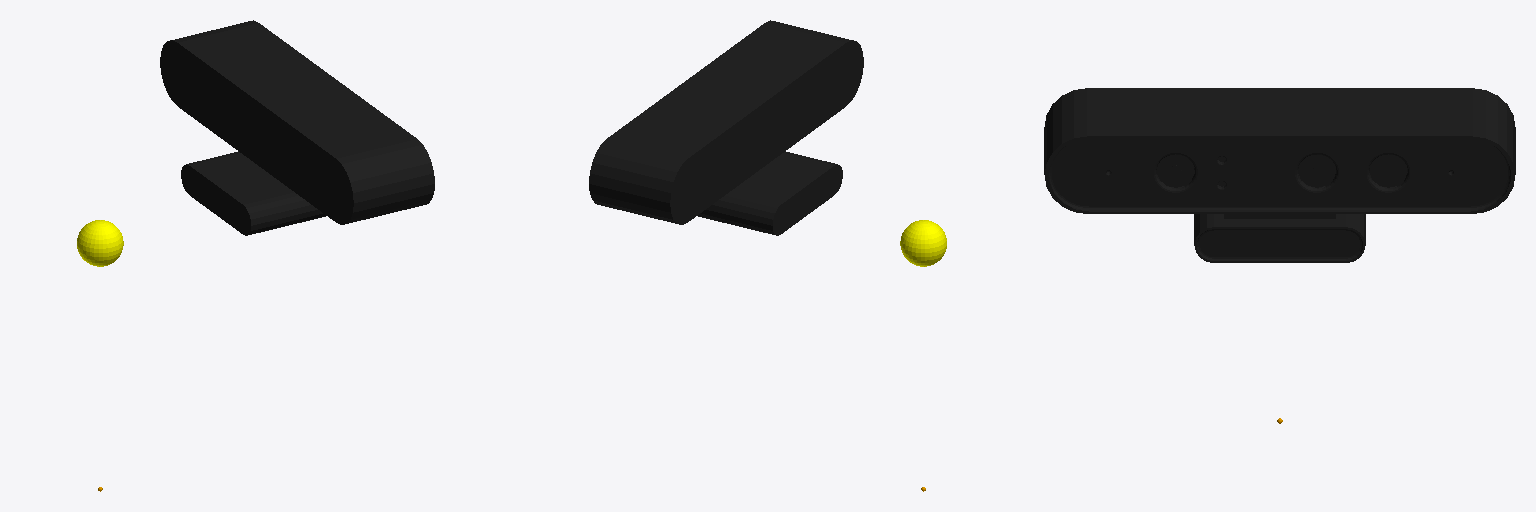
robot.urdf — tarkbot_robot:
<?xml version="1.0" encoding="utf-8"?>

<robot name="tarkbot_robot">

    <!-- 机器人底部中心原点 -->
    <link name="base_footprint">
        <visual>
            <geometry>
                <sphere radius="0.001" />
            </geometry>
        </visual>
    </link>

    <!-- 机器人底盘 -->
    <link name="base_link">
        <visual>
            <geometry>
                <mesh filename="package://turtlebot4_description/meshes/base_r20_fwd.stl" />
            </geometry>
            <origin xyz="0 0 0" rpy="0 0 0" />
            <material name="base_color">
                <!-- <color rgba="0.000 0.500 0.500 1" /> -->
                <!-- <color rgba="0.000 0.000 1.000 1" /> -->
                <!-- <color rgba="1.000 0.500 0.000 1" /> -->
                <color rgba="0.800 0.800 0.800 1" />
            </material>
        </visual>
    </link>    

        <!-- 机器人轮子 -->
    <link name="wheel_fl">
        <visual>
            <geometry>
                <mesh filename="package://turtlebot4_description/meshes/wheel/w100.stl" />
            </geometry>
            <origin xyz="0 0 0" rpy="0 0 0" />
            <material name="wheel_color">
                <color rgba="0.1 0.1 0.1 1" />
            </material>
        </visual>
    </link>  

    <link name="wheel_fr">
        <visual>
            <geometry>
                <mesh filename="package://turtlebot4_description/meshes/wheel/w100.stl" />
            </geometry>
            <origin xyz="0 0 0" rpy="0 0 0" />
            <material name="wheel_color">
                <color rgba="0.1 0.1 0.1 1" />
            </material>
        </visual>
    </link>  

    <link name="wheel_bl">
        <visual>
            <geometry>
                <mesh filename="package://turtlebot4_description/meshes/wheel/w100.stl" />
            </geometry>
            <origin xyz="0 0 0" rpy="0 0 0" />
            <material name="wheel_color">
                <color rgba="0.1 0.1 0.1 1" />
            </material>
        </visual>
    </link>  

    <link name="wheel_br">
        <visual>
            <geometry>
                <mesh filename="package://turtlebot4_description/meshes/wheel/w100.stl" />
            </geometry>
            <origin xyz="0 0 0" rpy="0 0 0" />
            <material name="wheel_color">
                <color rgba="0.1 0.1 0.1 1" />
            </material>
        </visual>
    </link>  

    <!-- 机器人雷达 -->
    <link name="laser_link">
        <visual>
            <geometry>
                <mesh filename="package://turtlebot4_description/meshes/laser.stl" />
            </geometry>
            <origin xyz="0 0 -0.06" rpy="0 0 0" />
            <material name="laser_color">
                <color rgba="0.4 0.4 0.4 1" />
            </material>
        </visual>
    </link> 

    <!-- 机器人摄像头 -->
    <link name="camera_link">
        <visual>
            <geometry>
                <mesh filename="package://turtlebot4_description/meshes/depthcamera.stl" />
            </geometry>
            <origin xyz="0 0 0" rpy="0 0 0" />
            <material name="camera_color">
                <color rgba="0.15 0.15 0.15 1" />
            </material>
        </visual>
    </link>

    <!-- 机器人IMU传感器 -->
    <link name="imu_link">
        <visual>
            <geometry>
                <sphere radius="0.010" />
            </geometry>
            <origin xyz="0 0 0" rpy="0 0 0" />
            <material name="imu_color">
                <color rgba="1 1 0 1" />
            </material>
        </visual>
    </link>

    <!-- 机器人前灯 -->
    <link name="light_link">
        <visual>
            <geometry>
                <mesh filename="package://turtlebot4_description/meshes/light.stl" />
            </geometry>
            <origin xyz="0 0 0" rpy="0 0 0" />
            <material name="light_color">
                <color rgba="0.0 1.0 1.0 1" />
            </material>
        </visual>
    </link>

    <!-- 底盘与原点连接的关节 -->
    <joint name="baselink2footprint" type="fixed">
        <origin xyz="0 0 0.1155" rpy="0 0 0"/>
        <parent link="base_footprint" />
        <child  link="base_link" />
    </joint>

        <!-- 轮子到与底盘连接的关节 -->
    <joint name="wheelfl2base" type="fixed">
        <origin xyz="0.088 0.096 -0.069" rpy="0 0 1.57"/>
        <parent link="base_link" />
        <child  link="wheel_fl" />
    </joint>

    <joint name="wheelfr2base" type="fixed">
        <origin xyz="0.088 -0.096 -0.069" rpy="0 0 -1.57"/>
        <parent link="base_link" />
        <child  link="wheel_fr" />
    </joint>

    <joint name="wheelbl2base" type="fixed">
        <origin xyz="-0.088 0.096 -0.069" rpy="0 0 1.57"/>
        <parent link="base_link" />
        <child  link="wheel_bl" />
    </joint>

    <joint name="wheelbr2base" type="fixed">
        <origin xyz="-0.088 -0.096 -0.069" rpy="0 0 -1.57"/>
        <parent link="base_link" />
        <child  link="wheel_br" />
    </joint>

    <!-- 雷达到与底盘连接的关节 -->
    <joint name="laser2base" type="fixed">
        <origin xyz="0 0 0.06" rpy="0 0 0"/>
        <parent link="base_link" />
        <child  link="laser_link" />
    </joint>

    <!-- 深度摄像头与底盘连接的关节 -->
    <joint name="camera2base" type="fixed">
        <origin xyz="0.115 0 0.034" rpy="0 0 0"/>
        <parent link="base_link" />
        <child  link="camera_link" />
    </joint>

    <!-- IMU传感器与底盘连接的关节 -->
    <joint name="imu2base" type="fixed">
        <origin xyz="0 0 0" rpy="0 0 0"/>
        <parent link="base_link" />
        <child  link="imu_link" />
    </joint>

    <!-- 前灯与底盘连接的关节 -->
    <joint name="light2base" type="fixed">
        <origin xyz="0.133 0 -0.027 " rpy="0 0 0"/>
        <parent link="base_link" />
        <child  link="light_link" />
    </joint>

</robot>

--- What the picture shows (computed from the rendered views, not written in the file) ---
The picture shows the robot from 3 angles, left to right: view 1: azimuth 30°, elevation 25°; view 2: azimuth 150°, elevation 25°; view 3: azimuth 270°, elevation 25°; orthographic projection.
Model tarkbot_robot with 10 links and 9 joints (9 fixed), rooted at base_footprint, posed all joints at 0.
Links seen in each view (by area): view 1: camera_link, imu_link; view 2: camera_link, imu_link; view 3: camera_link.
Boxes of the visible links, box(x1,y1,x2,y2) form: camera_link: box(160, 20, 434, 235); imu_link: box(77, 220, 123, 266); camera_link: box(589, 20, 863, 235); imu_link: box(900, 220, 946, 266); camera_link: box(1044, 88, 1515, 262).
Bounding box of the posed robot: 0.127 × 0.165 × 0.1655 m (x, y, z).
Meshes: 5 distinct files referenced, 1 mesh visuals loaded (1 binary STL); not drawn: 7 (reference not matched to a file when rendering).